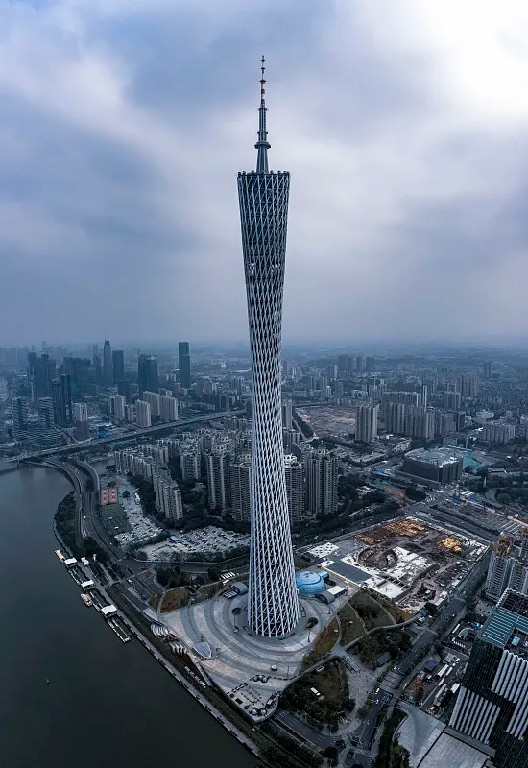Canton: (237, 53, 302, 641)
